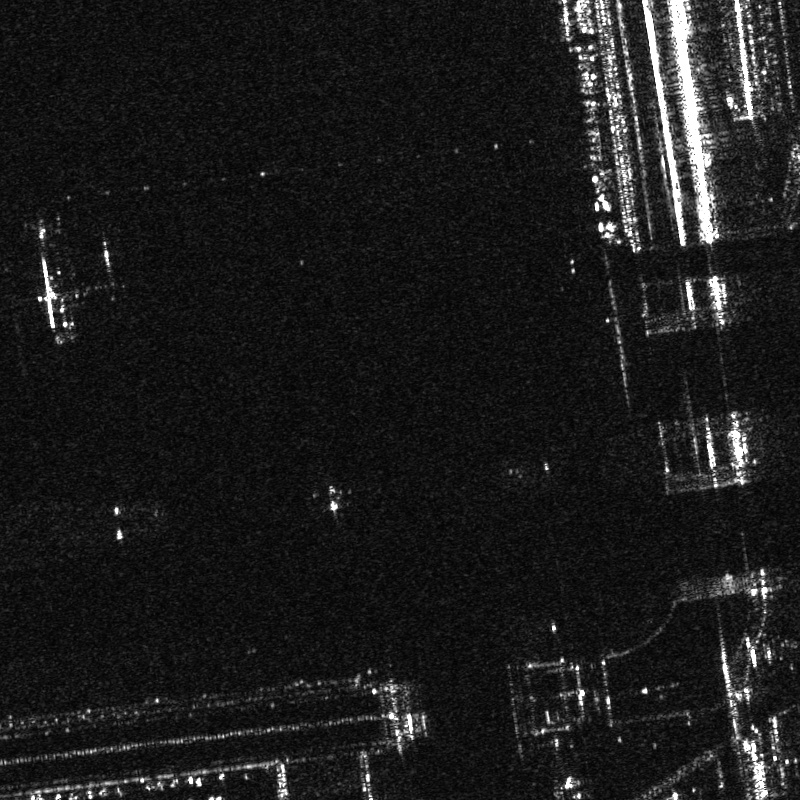A330: (310, 479, 353, 515)
